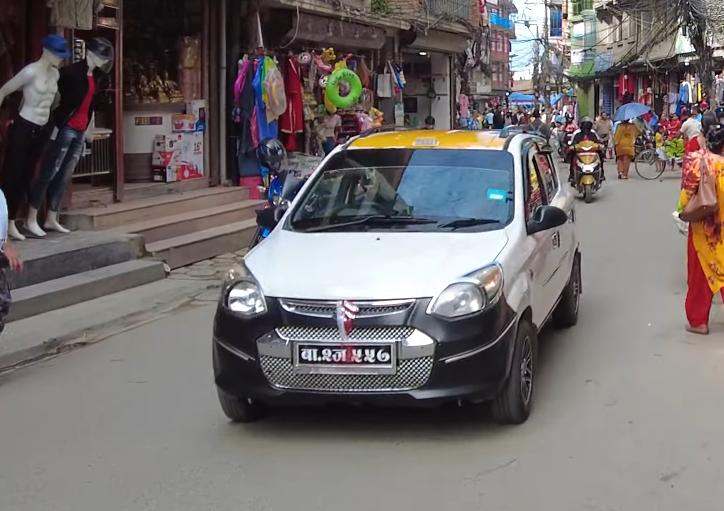bike: (230, 161, 318, 260)
scooter: (560, 135, 613, 203)
taxi: (200, 111, 588, 440)
